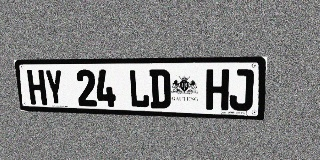2: (76, 70, 97, 106)
4: (95, 69, 116, 107)
D: (149, 69, 171, 109)
H: (206, 69, 229, 110), (27, 70, 47, 105)
J: (229, 69, 254, 111)
L: (128, 69, 150, 108)
Y: (44, 70, 65, 105)
